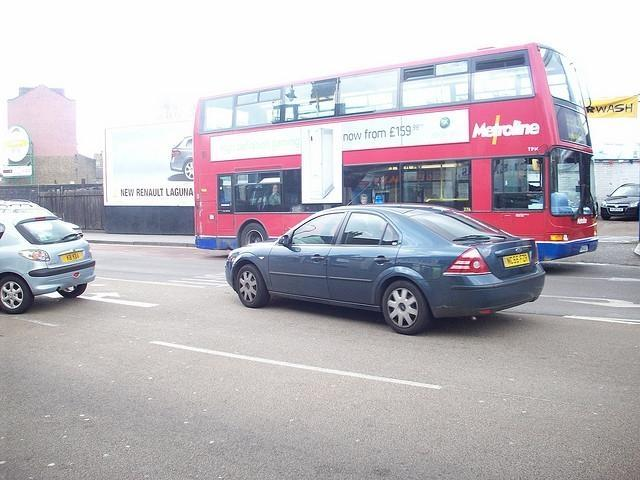bus: (196, 45, 596, 262)
car: (225, 200, 546, 334), (1, 211, 93, 310), (601, 183, 640, 216), (170, 136, 194, 181)
